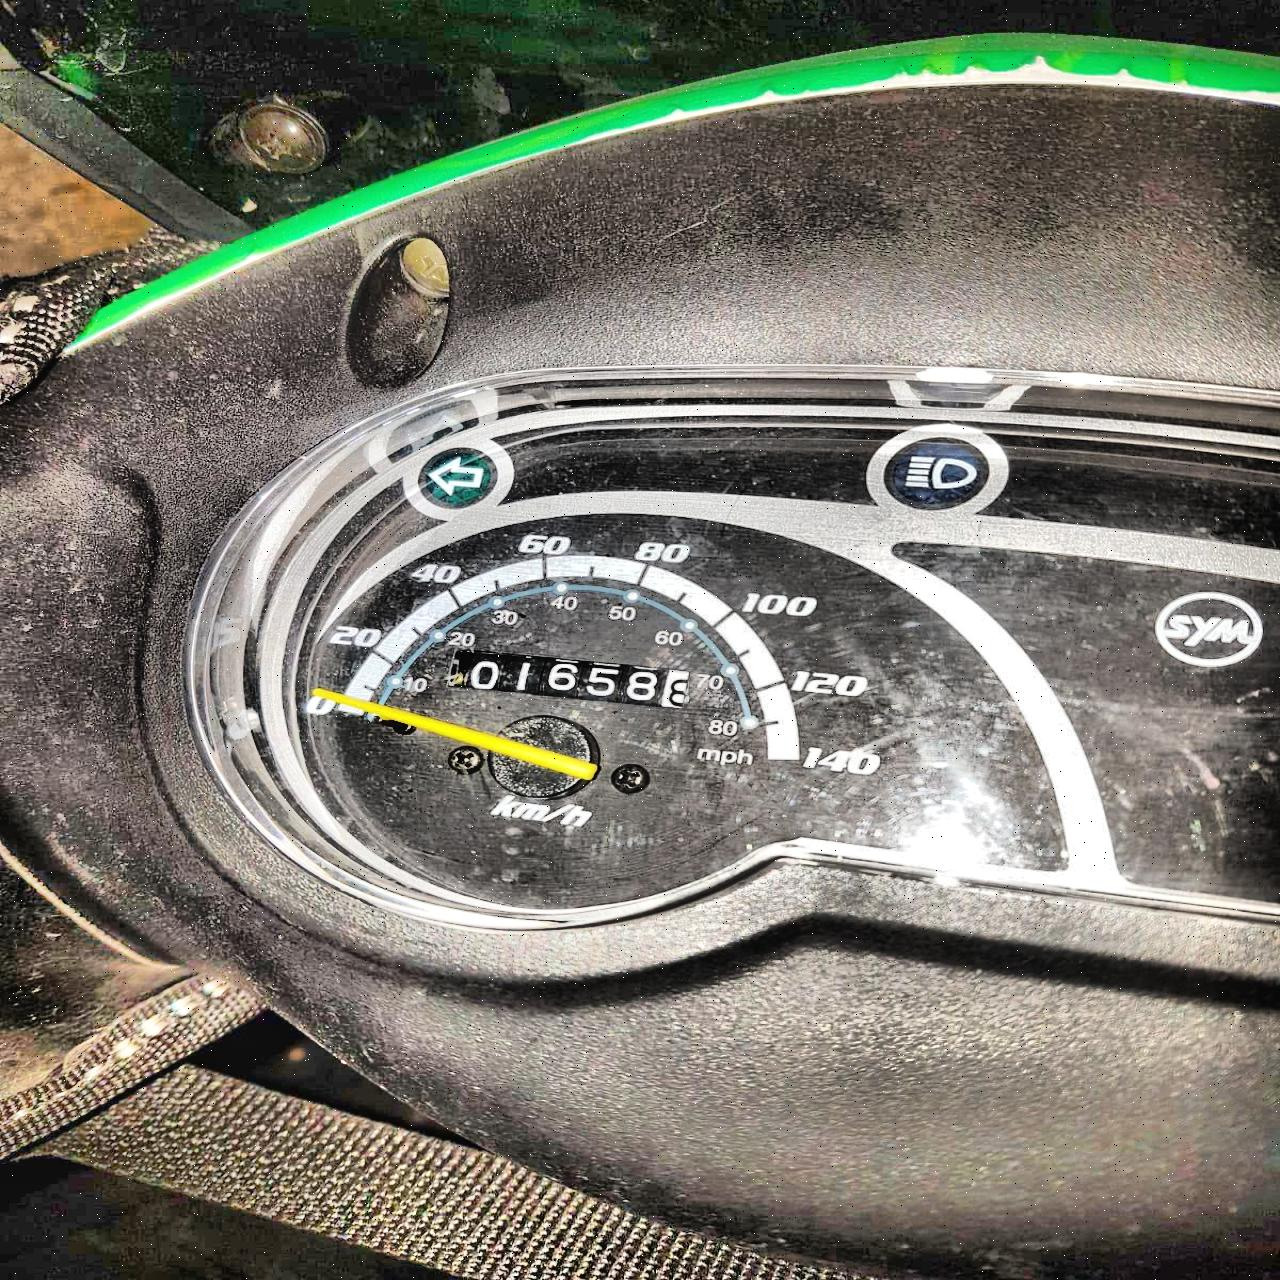0: (467, 655, 497, 690)
1: (510, 655, 531, 694)
5: (586, 665, 619, 697)
6: (546, 660, 576, 693)
8: (626, 668, 654, 702), (666, 675, 689, 707)
odometer: (444, 649, 693, 708)
